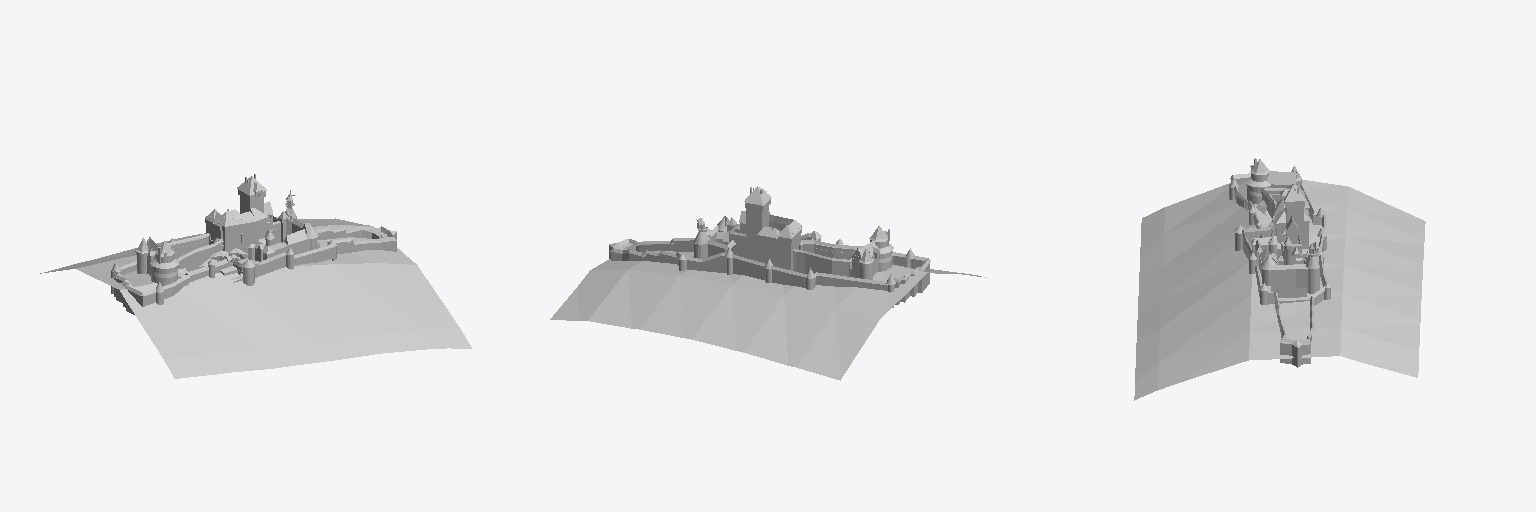
File: chateauH.obj
The picture shows the model from 3 angles: view 1: azimuth 30°, elevation 25°; view 2: azimuth 150°, elevation 25°; view 3: azimuth 270°, elevation 25°; orthographic projection.
Visible parts, largest first — view 1: Mesh1 Google_Earth_Terrain Chteau_du_Haut_Koenigsbourg1 Model, Mesh5 Chteau_du_Haut_Koenigsbourg1 Model, Mesh7 Chteau_du_Haut_Koenigsbourg1 Model; view 2: Mesh1 Google_Earth_Terrain Chteau_du_Haut_Koenigsbourg1 Model, Mesh5 Chteau_du_Haut_Koenigsbourg1 Model; view 3: Mesh1 Google_Earth_Terrain Chteau_du_Haut_Koenigsbourg1 Model, Mesh5 Chteau_du_Haut_Koenigsbourg1 Model, Mesh7 Chteau_du_Haut_Koenigsbourg1 Model.
Boxes of the visible parts, x1=… form: Mesh1 Google_Earth_Terrain Chteau_du_Haut_Koenigsbourg1 Model: x1=40, y1=218, x2=471, y2=378; Mesh5 Chteau_du_Haut_Koenigsbourg1 Model: x1=111, y1=176, x2=396, y2=314; Mesh7 Chteau_du_Haut_Koenigsbourg1 Model: x1=150, y1=241, x2=178, y2=277; Mesh1 Google_Earth_Terrain Chteau_du_Haut_Koenigsbourg1 Model: x1=550, y1=250, x2=985, y2=380; Mesh5 Chteau_du_Haut_Koenigsbourg1 Model: x1=609, y1=186, x2=930, y2=307; Mesh1 Google_Earth_Terrain Chteau_du_Haut_Koenigsbourg1 Model: x1=1134, y1=180, x2=1425, y2=400; Mesh5 Chteau_du_Haut_Koenigsbourg1 Model: x1=1229, y1=165, x2=1331, y2=367; Mesh7 Chteau_du_Haut_Koenigsbourg1 Model: x1=1245, y1=158, x2=1270, y2=196.
Size of the model in its own units: 291 by 137 by 244.